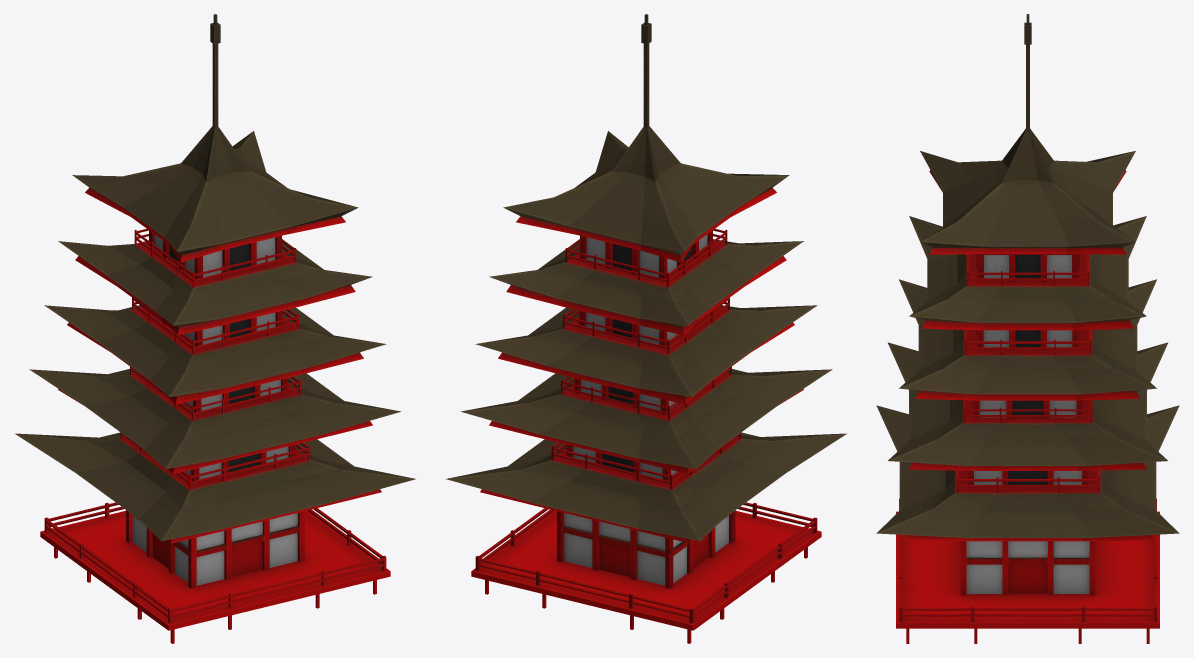
File: thap.glb
3 renders of one model, left to right at view 1: azimuth 30°, elevation 25°; view 2: azimuth 150°, elevation 25°; view 3: azimuth 270°, elevation 25°, orthographic. The views are drawn at different scales.
Parts seen in each view (by area): view 1: Object_2; view 2: Object_2; view 3: Object_2.
Boxes of the visible parts, x1,y1,x2,y2 form: Object_2: (15, 14, 415, 643); Object_2: (446, 14, 846, 643); Object_2: (876, 14, 1179, 643).
Bounding box in the file's own units: 26.41 × 55.5 × 26.41.
1 material, 1 textured.
